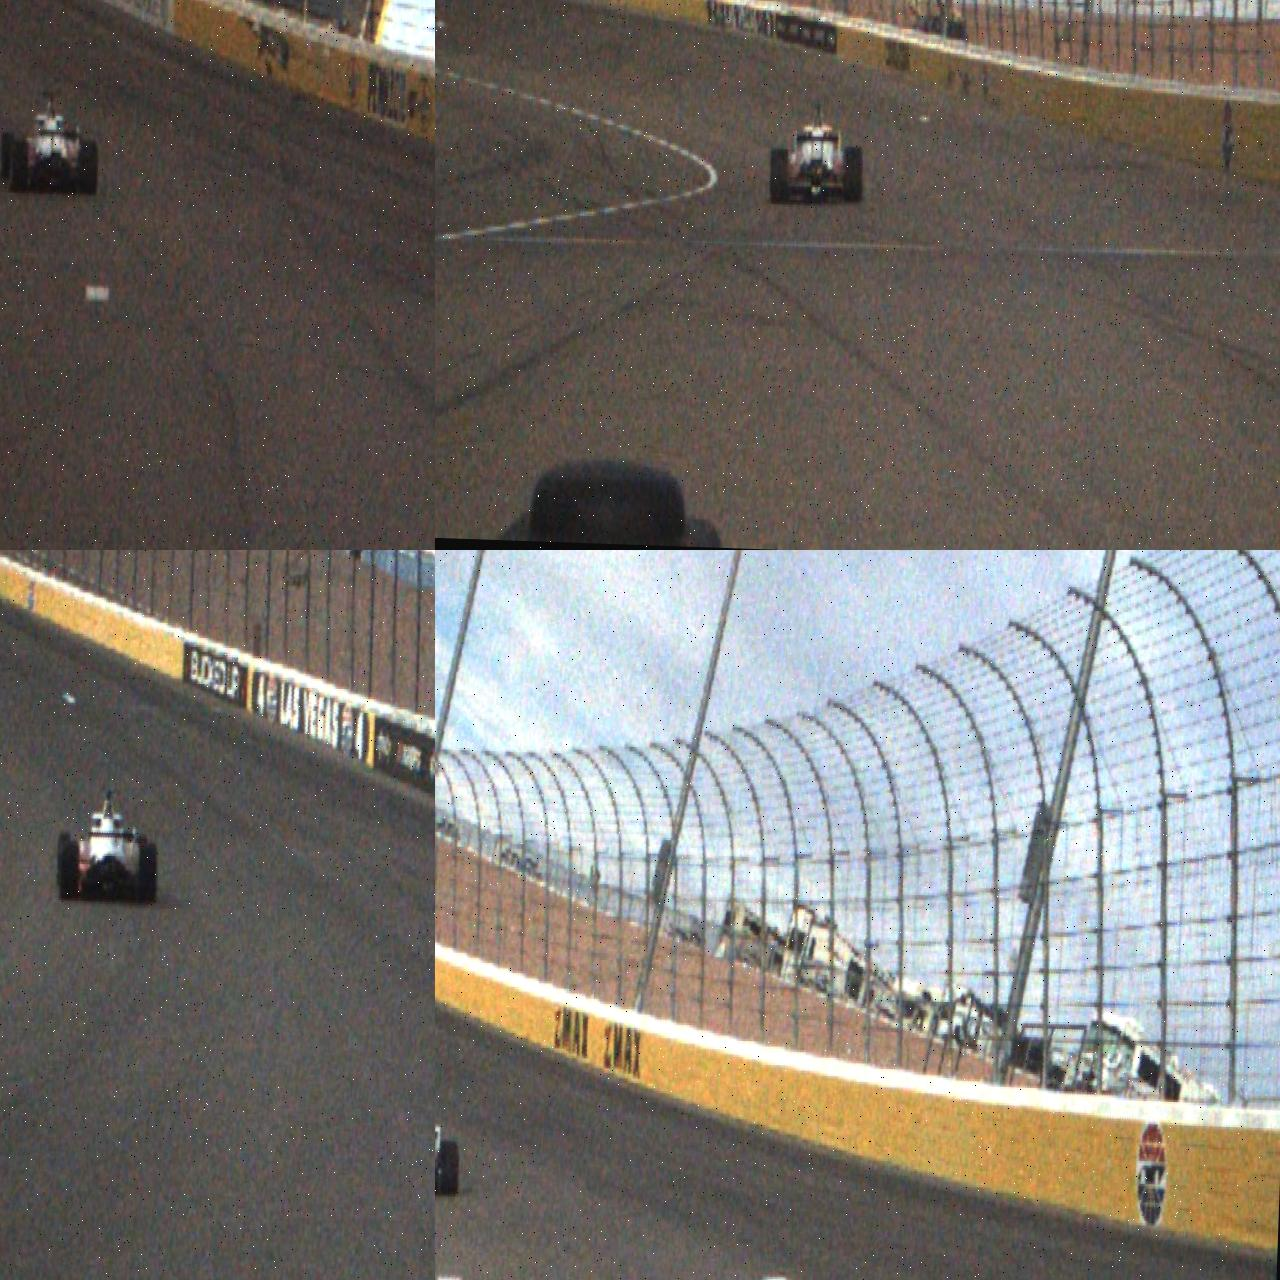AV: (54, 785, 161, 906), (0, 89, 100, 195), (768, 100, 865, 207), (435, 1083, 462, 1197)
Wheel: (843, 144, 864, 204), (59, 839, 79, 903), (138, 842, 158, 904), (438, 1141, 459, 1197), (79, 139, 98, 195), (769, 147, 788, 204), (8, 139, 28, 192), (56, 830, 72, 887), (0, 131, 14, 179)
